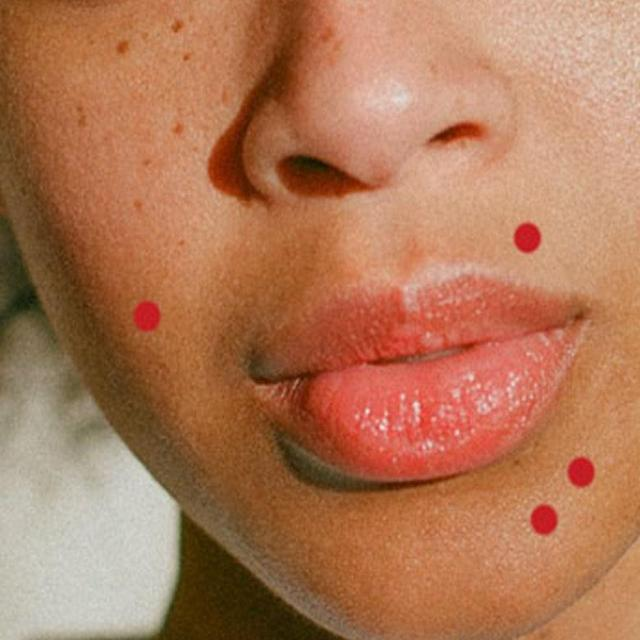blackheads: (510, 218, 544, 256), (565, 452, 599, 490), (130, 296, 163, 335), (527, 498, 555, 539), (71, 99, 100, 137), (166, 18, 184, 40), (169, 120, 190, 138), (113, 38, 133, 53)
